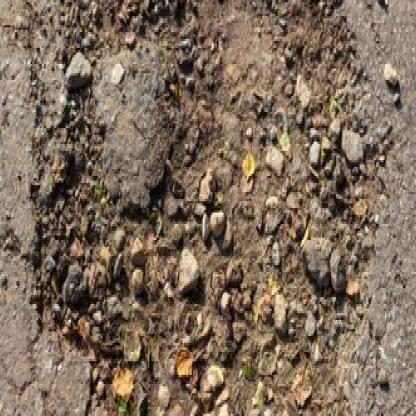pothole: (24, 0, 395, 416)
